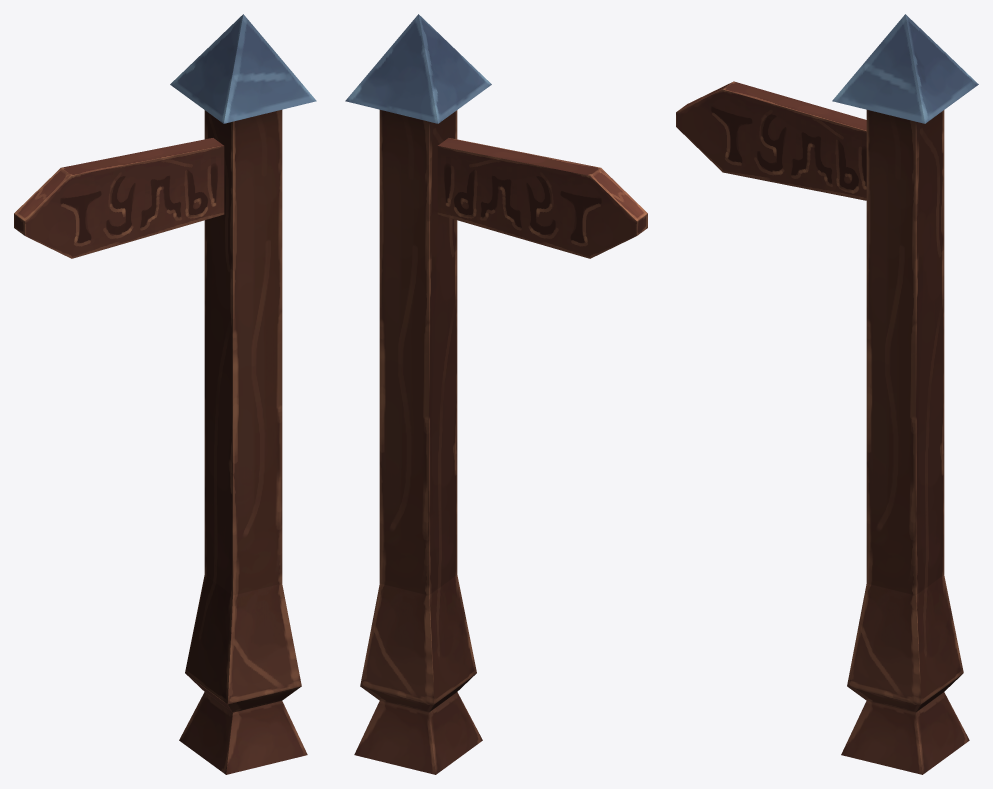
File: road_sign_01.fbx
3 views of the same model, side by side, from view 1: azimuth 30°, elevation 25°; view 2: azimuth 150°, elevation 25°; view 3: azimuth 330°, elevation 25° (orthographic).
Visible parts, largest first — view 1: road_sign_01; view 2: road_sign_01; view 3: road_sign_01.
Part boxes in pixels (x1=…): road_sign_01: x1=14, y1=14, x2=316, y2=774; road_sign_01: x1=345, y1=14, x2=647, y2=774; road_sign_01: x1=676, y1=14, x2=978, y2=774.
Bounding box in the file's own units: 2.22 × 5.75 × 0.764.
